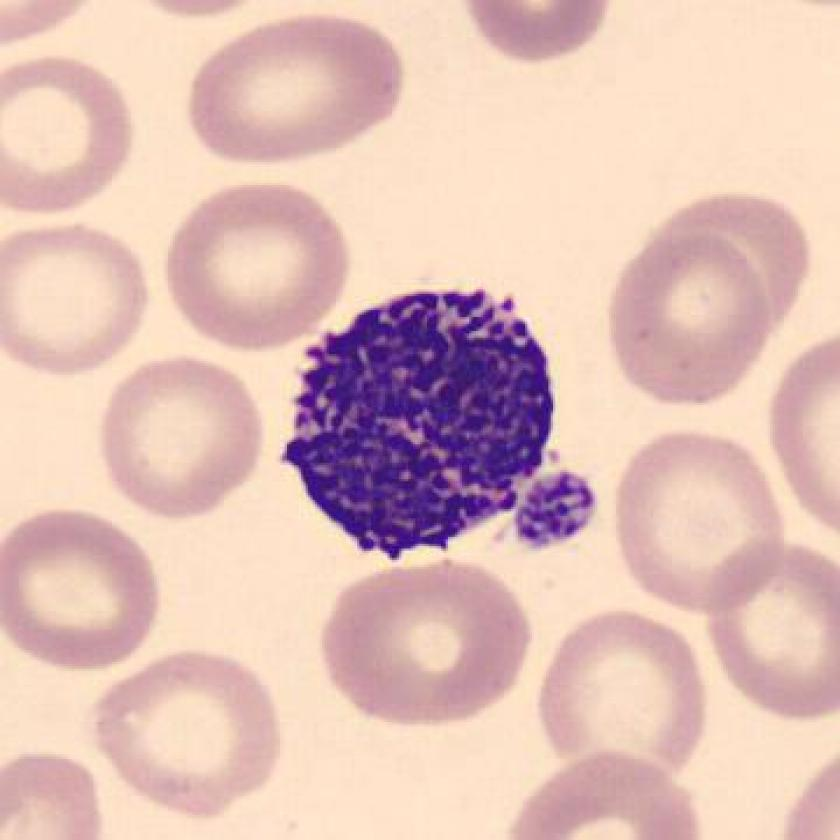basophil: (274, 272, 575, 566)
